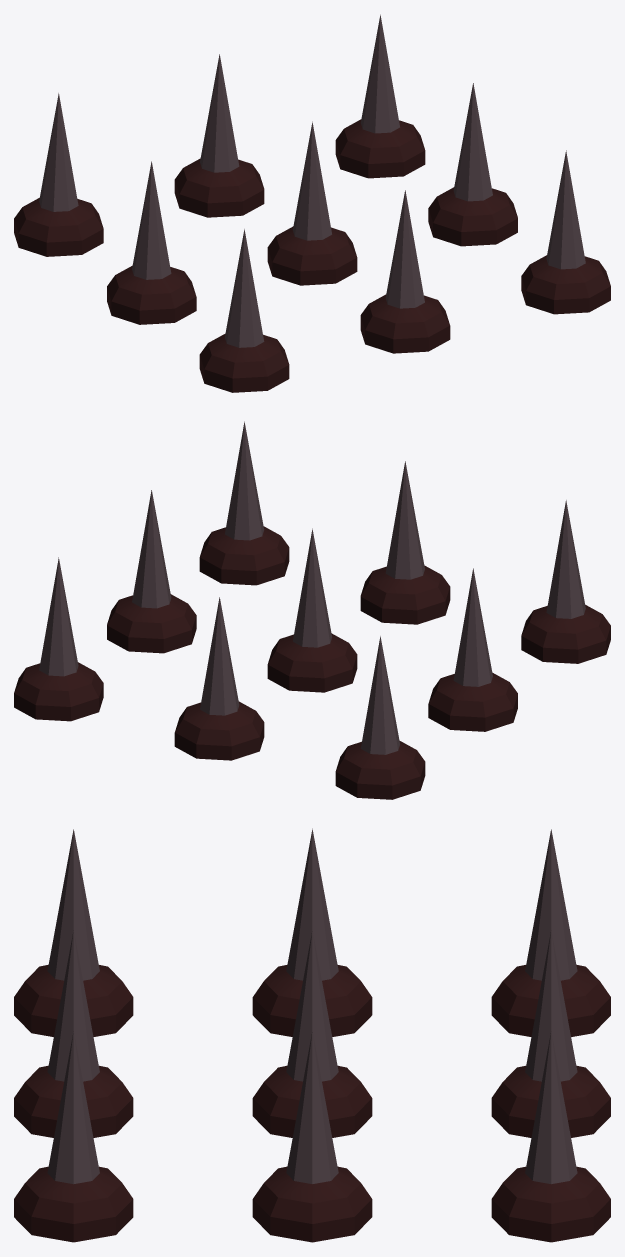
Rendered from spikes.glb.
3 renders of one model, top to bottom at view 1: azimuth 30°, elevation 25°; view 2: azimuth 150°, elevation 25°; view 3: azimuth 270°, elevation 25°, orthographic. The views are drawn at different scales.
Parts seen in each view (by area): view 1: Cylinder.001; view 2: Cylinder.001; view 3: Cylinder.001.
Part boxes in pixels (x1,y1,x2,y2): Cylinder.001: (14, 14, 610, 392); Cylinder.001: (14, 421, 610, 799); Cylinder.001: (14, 828, 610, 1242).
Bounding box in the file's own units: 10 × 3.46 × 10.
1 material, 1 textured.
